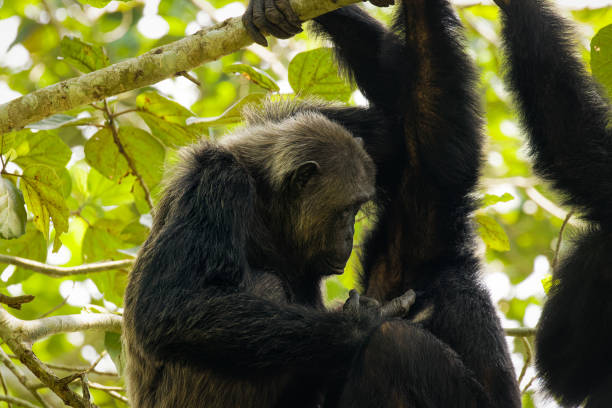chimpanzee: (246, 104, 378, 302)
